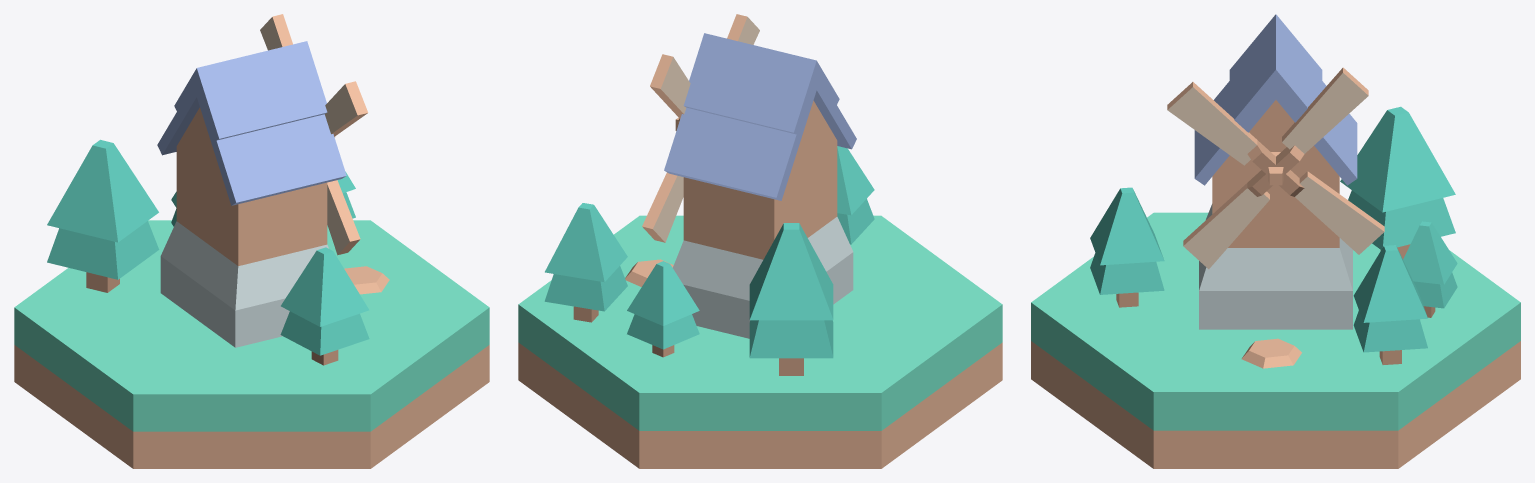
The model's file is mill.glb.
The picture shows the model from 3 angles, left to right: view 1: azimuth 30°, elevation 25°; view 2: azimuth 150°, elevation 25°; view 3: azimuth 270°, elevation 25°; orthographic projection. The views are drawn at different scales.
Visible parts, largest first — view 1: Mesh building_mill, building, tree (×2), mill, path; view 2: Mesh building_mill, building, tree (×4), mill, path; view 3: Mesh building_mill, building, tree (×4), mill, path.
Boxes of the visible parts, x1,y1,x2,y2 form: Mesh building_mill: (14, 220, 489, 468); building: (157, 41, 346, 347); tree (×2): (47, 139, 369, 365); mill: (260, 14, 368, 255); path: (344, 266, 389, 294); Mesh building_mill: (518, 215, 1002, 468); building: (664, 33, 856, 338); tree (×4): (544, 146, 874, 375); mill: (642, 14, 759, 242); path: (625, 259, 673, 286); Mesh building_mill: (1031, 212, 1520, 468); building: (1194, 14, 1357, 329); tree (×4): (1090, 106, 1457, 364); mill: (1167, 67, 1384, 269); path: (1241, 338, 1301, 368).
Size of the model in its own units: 1 by 0.8811 by 1.15.
